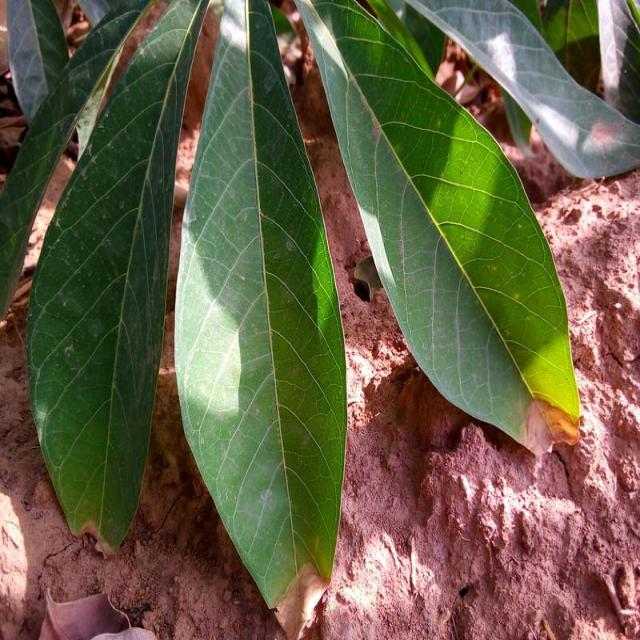cassava leaf: (296, 0, 582, 457), (174, 0, 348, 610), (25, 0, 214, 557), (405, 0, 640, 180)
